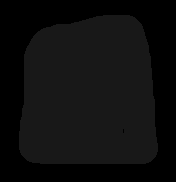fp: (14, 13, 161, 162)
